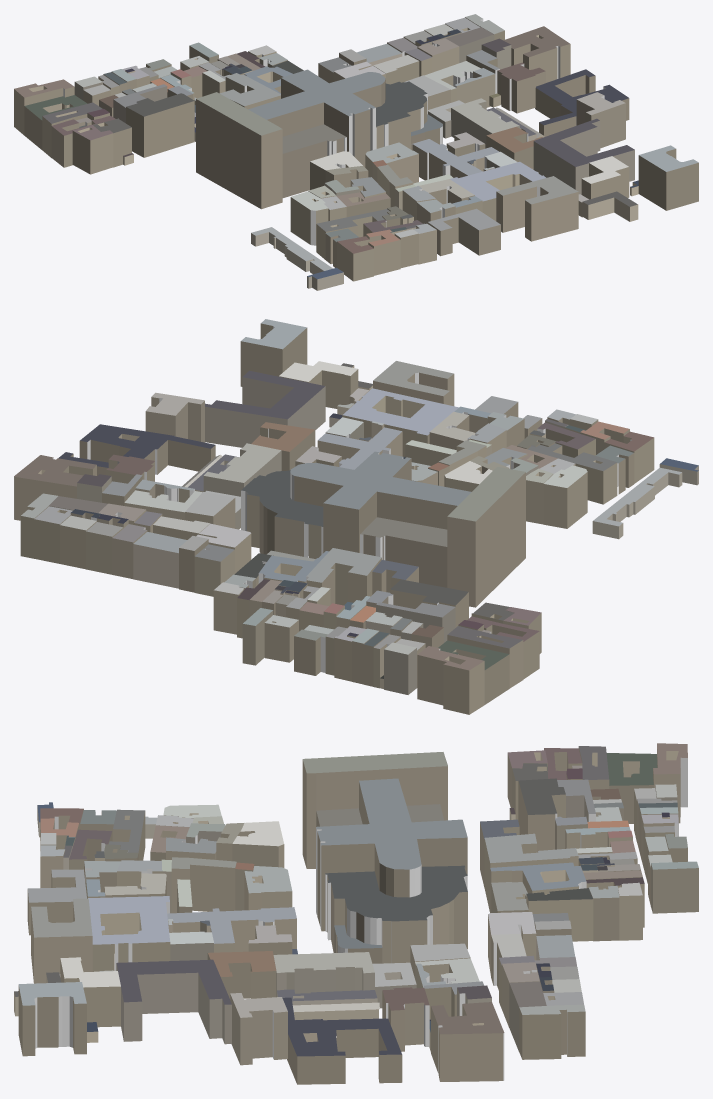
The picture shows the model from 3 angles, top to bottom: view 1: azimuth 30°, elevation 25°; view 2: azimuth 150°, elevation 25°; view 3: azimuth 270°, elevation 25°; orthographic projection. The views are drawn at different scales.
Visible parts, largest first — view 1: tuile; view 2: tuile; view 3: tuile.
Boxes of the visible parts, x1,y1,x2,y2 form: tuile: (14,14,698,290); tuile: (14,319,698,714); tuile: (14,743,698,1084).
Size of the model in its own units: 277 by 42.31 by 269.
